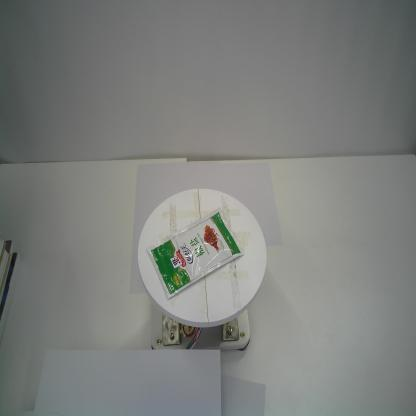Seasoner: (146, 206, 245, 300)
